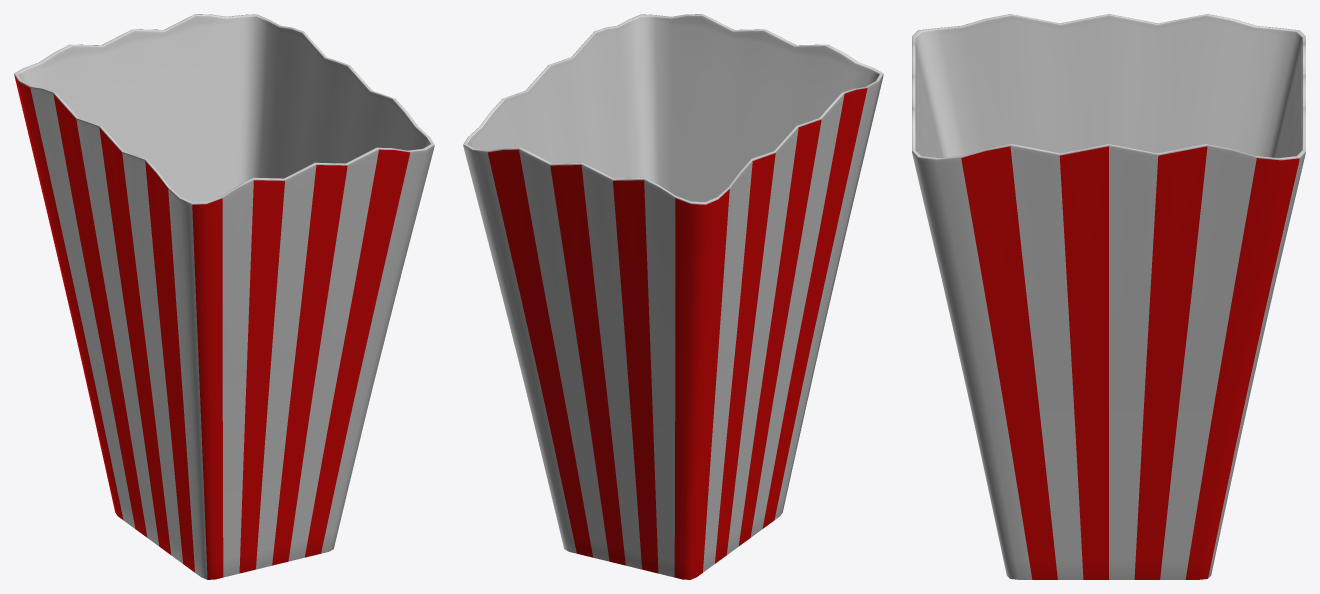
The model's file is PopCorn_Continer_Small.fbx.
The picture shows the model from 3 angles, left to right: view 1: azimuth 30°, elevation 25°; view 2: azimuth 150°, elevation 25°; view 3: azimuth 270°, elevation 25°; orthographic projection. The views are drawn at different scales.
Parts seen in each view (by area): view 1: Pop_Corn_Contanier_5; view 2: Pop_Corn_Contanier_5; view 3: Pop_Corn_Contanier_5.
Boxes of the visible parts, x1,y1,x2,y2 form: Pop_Corn_Contanier_5: [14, 14, 434, 579]; Pop_Corn_Contanier_5: [463, 14, 883, 579]; Pop_Corn_Contanier_5: [912, 14, 1305, 579].
Bounding box in the file's own units: 13.03 × 21.7 × 16.57.
